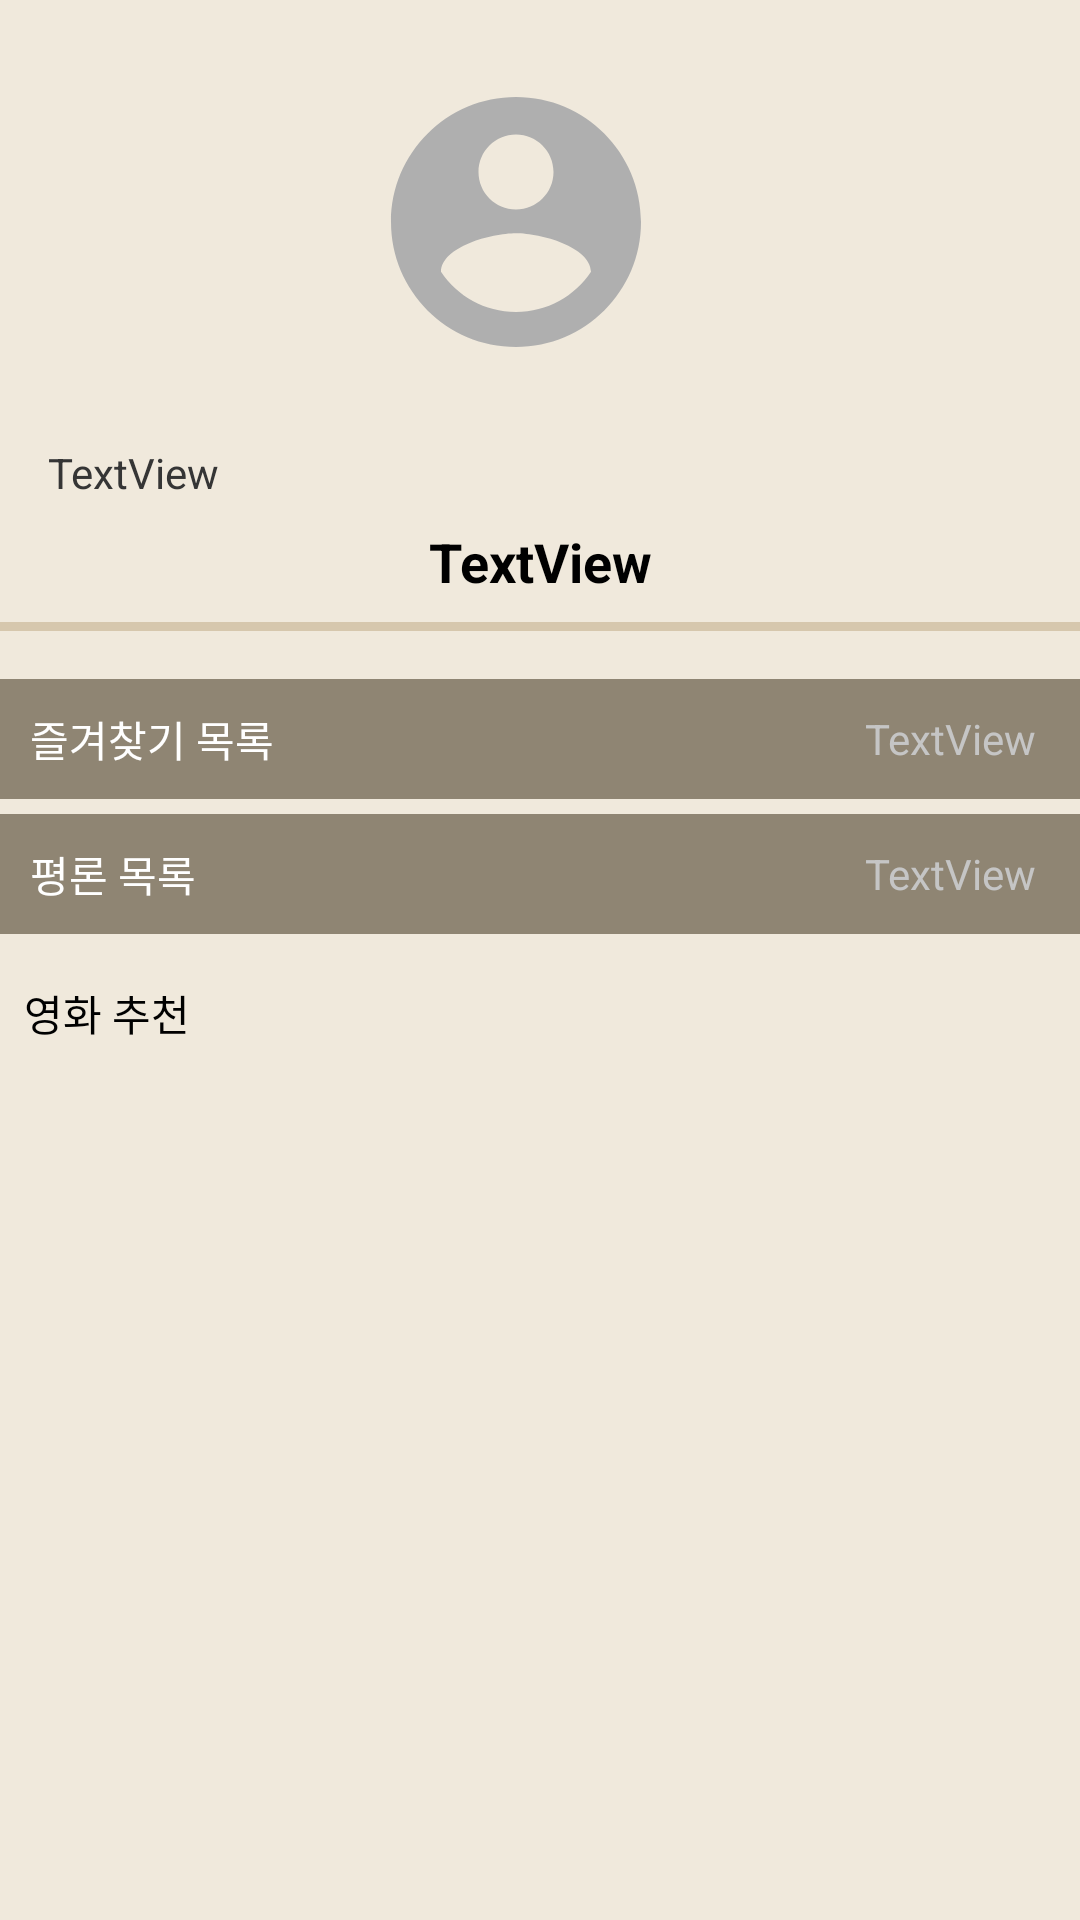

Named icons in this screenshot (1080px x 1920px) and their bounding boxes, (x1, y1, x2, y2):
account circle: (391, 97, 641, 347)
